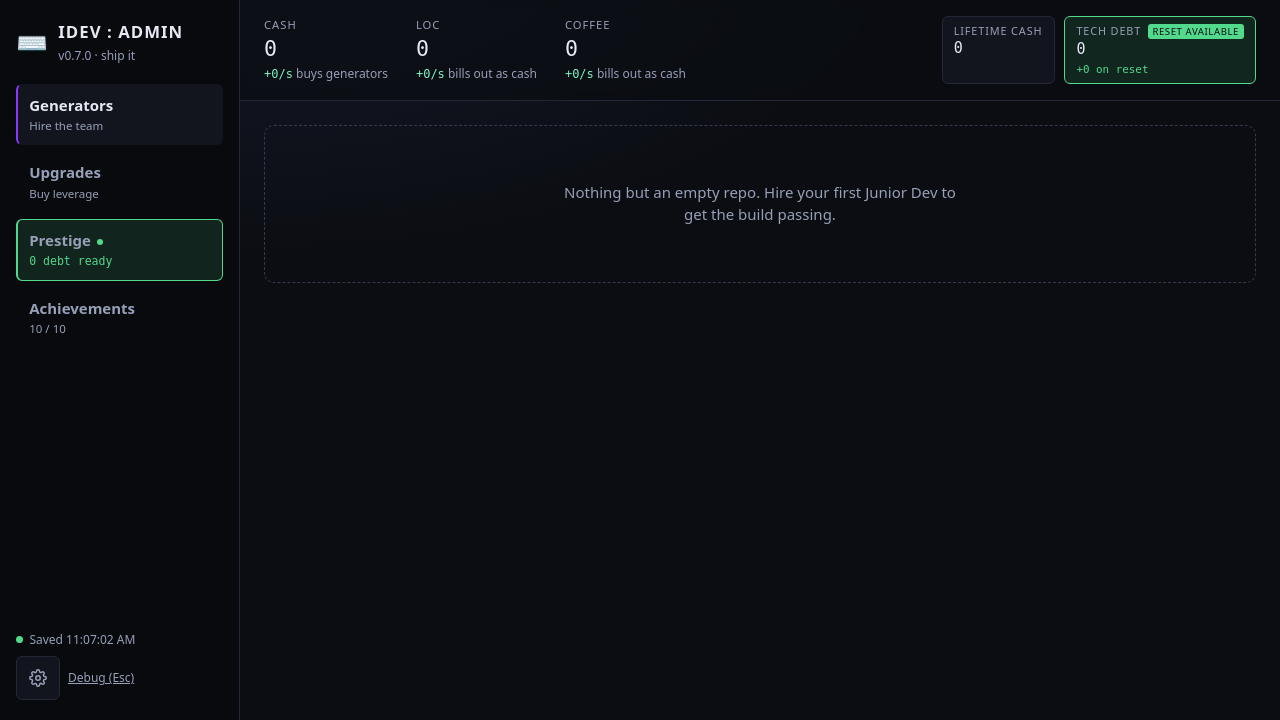
it: the settings surface › reaches save export/import, which used to be buried in the Prestige panel
Click the button named "settings".
click(38, 678)  # box [16,656,60,700]
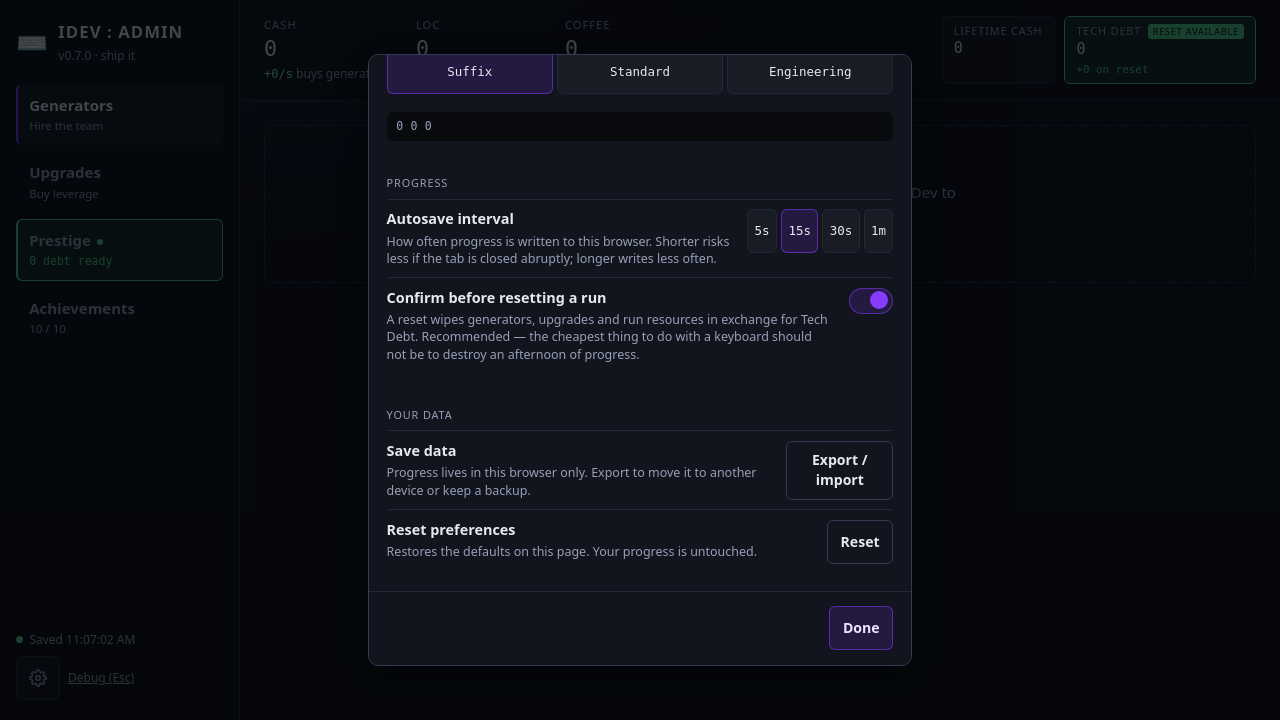
Click the button "Export / import".
click(840, 470)  # box [786,441,893,500]
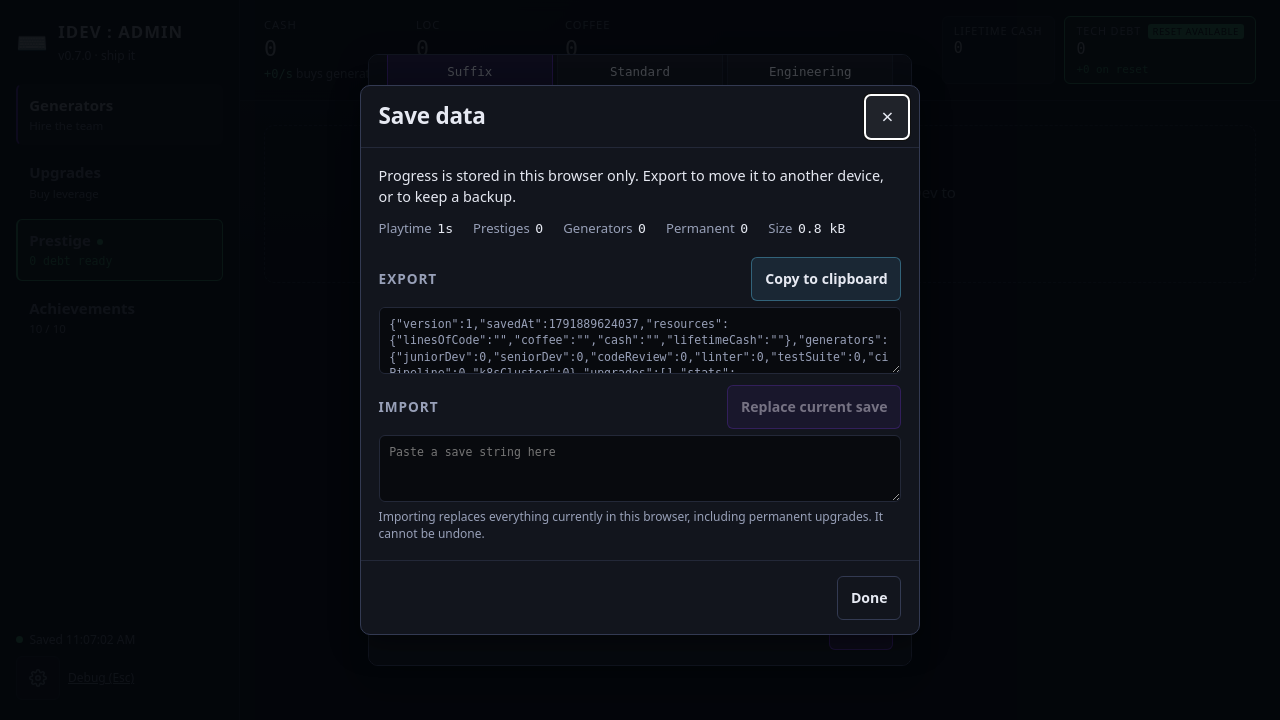
Expected: the heading "Save data" is shown, [379,100,486,133]
